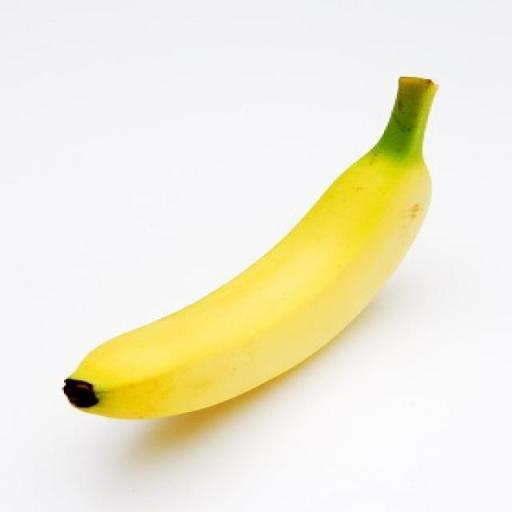fruit: (64, 77, 435, 416)
